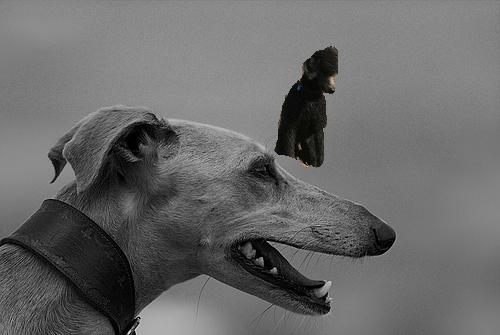tampered: (275, 47, 338, 168)
